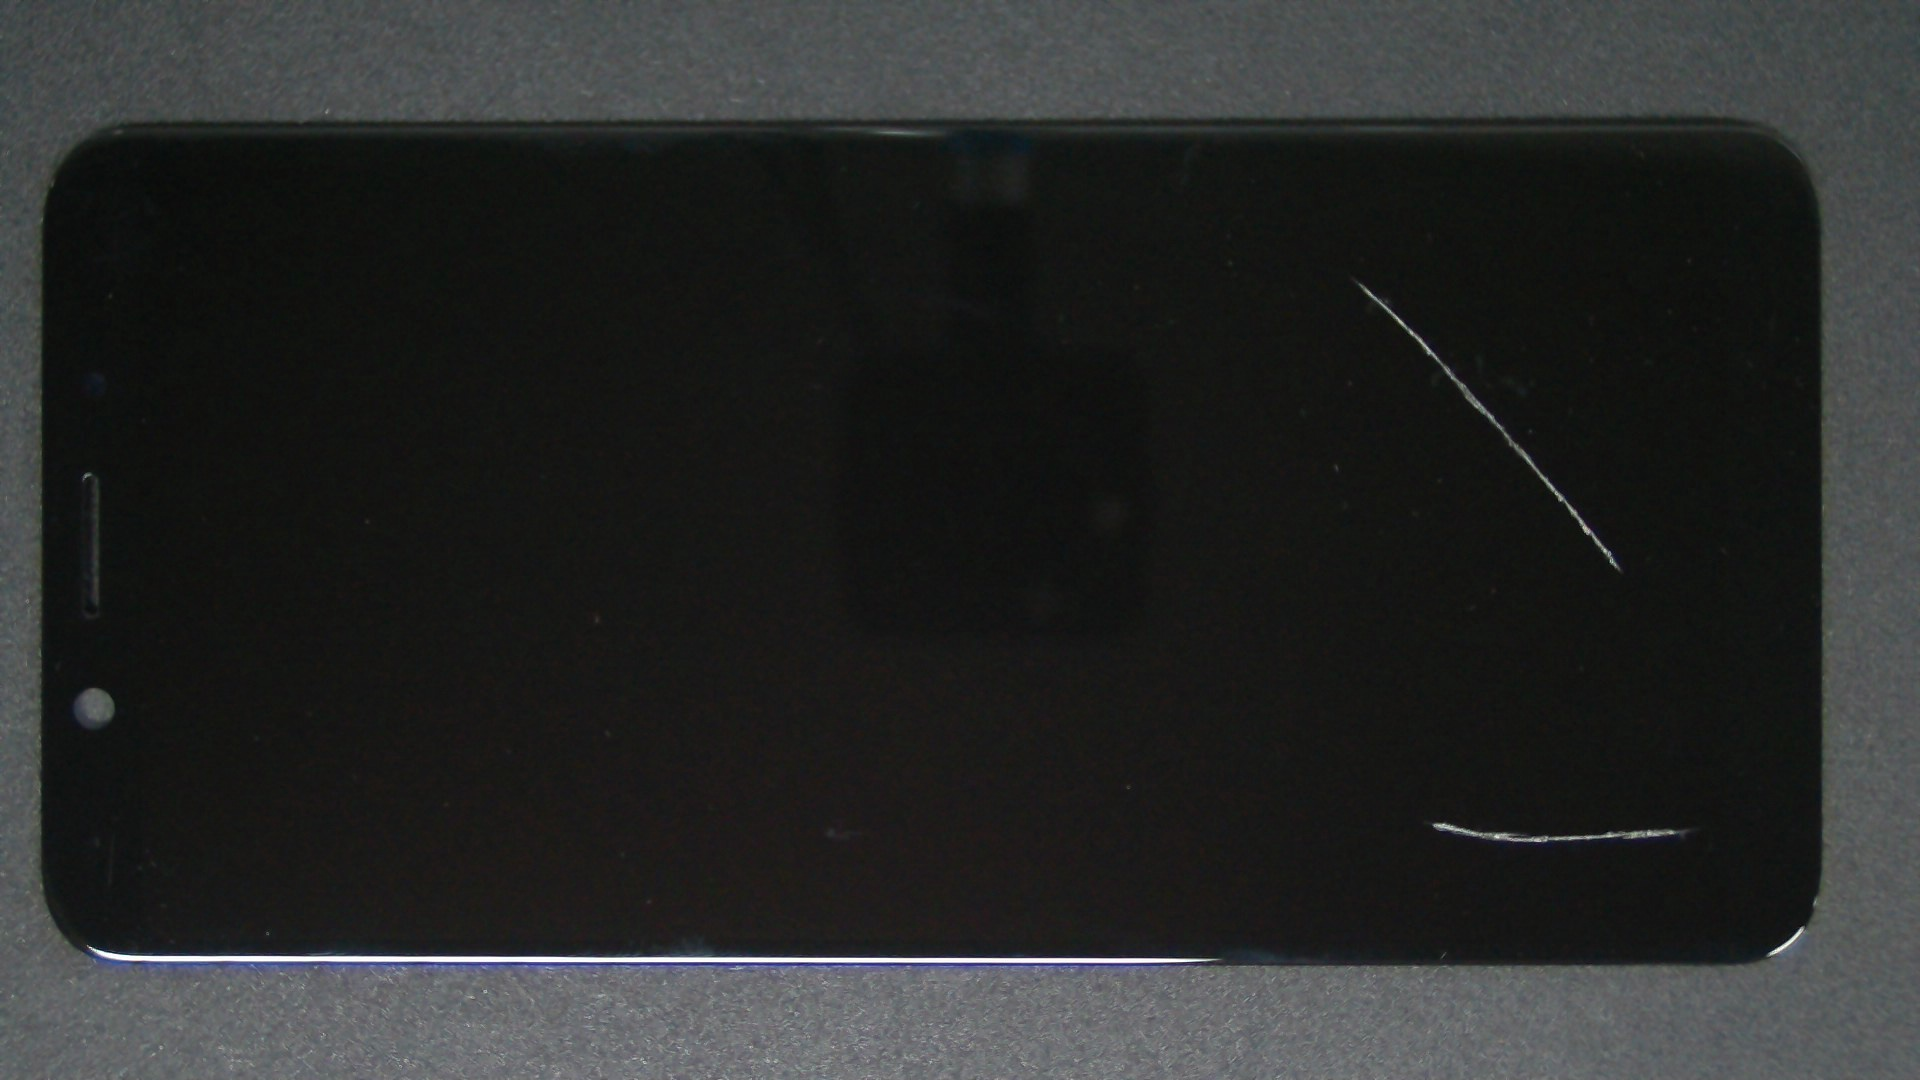oil: (719, 410, 1920, 1080), (678, 138, 1920, 419)
